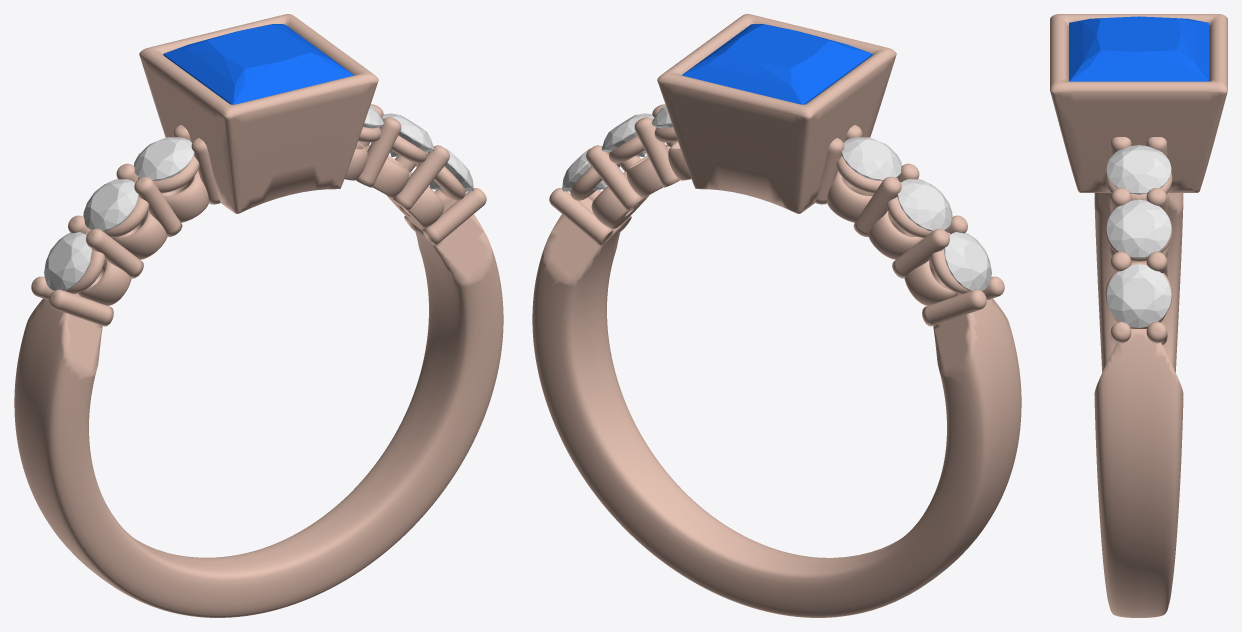
Rendered from bluesapphire-princess-rosegold-bezelset-straighttaperedband-7stone.glb.
The picture shows the model from 3 angles, left to right: view 1: azimuth 30°, elevation 25°; view 2: azimuth 150°, elevation 25°; view 3: azimuth 270°, elevation 25°; orthographic projection.
Visible parts, largest first — view 1: metal, stone, side, side.001, side.002, side.004; view 2: metal, stone, side, side.001, side.002, side.004; view 3: metal, stone, side.005, side.004, side.003.
Part boxes in pixels (x1,y1,x2,y2): metal: (14, 14, 503, 617); stone: (163, 24, 354, 104); side: (44, 232, 91, 290); side.001: (83, 179, 138, 231); side.002: (134, 137, 194, 180); side.004: (381, 113, 434, 156); metal: (532, 14, 1021, 617); stone: (681, 24, 872, 104); side: (944, 232, 991, 290); side.001: (897, 179, 952, 231); side.002: (841, 137, 901, 180); side.004: (601, 113, 654, 156); metal: (1050, 14, 1227, 617); stone: (1069, 16, 1208, 81); side.005: (1106, 264, 1171, 327); side.004: (1106, 199, 1171, 258); side.003: (1106, 145, 1171, 194).
Size of the model in its own units: 20.51 by 23.86 by 6.89.
